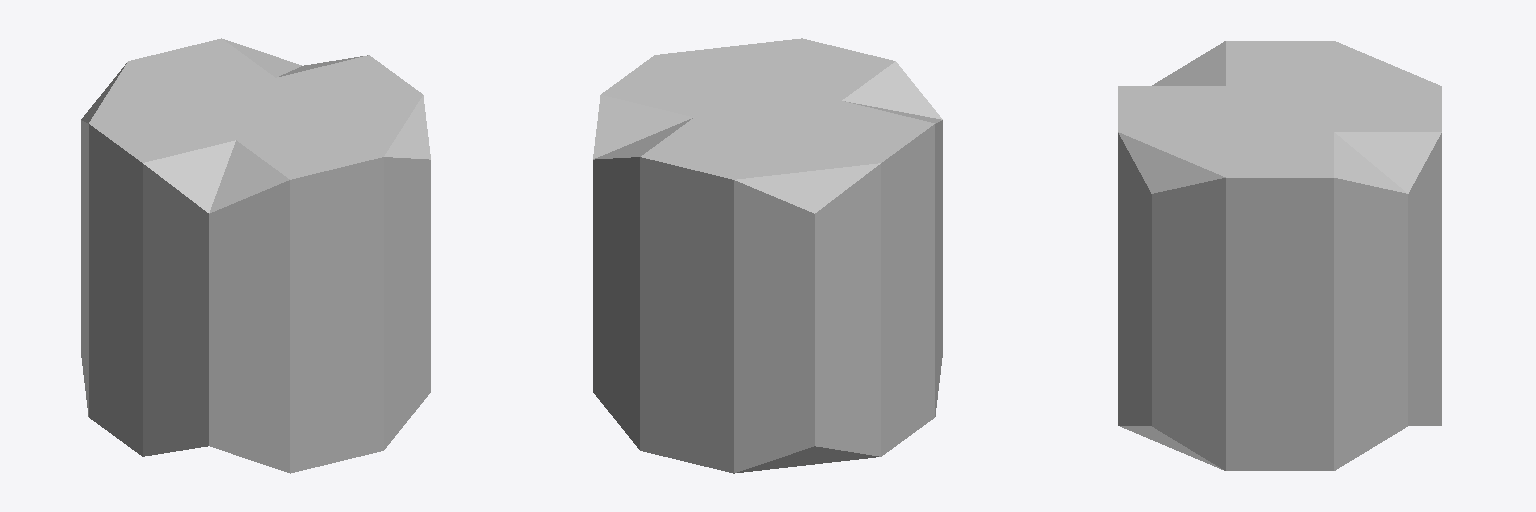
The model's file is Debris.obj.
3 views of the same model, side by side, from view 1: azimuth 30°, elevation 25°; view 2: azimuth 150°, elevation 25°; view 3: azimuth 270°, elevation 25° (orthographic).
Visible parts, largest first — view 1: Cube.001; view 2: Cube.001; view 3: Cube.001.
Boxes of the visible parts, box(x1,y1,x2,y2) form: Cube.001: box(81, 38, 430, 473); Cube.001: box(593, 38, 942, 473); Cube.001: box(1118, 41, 1441, 470).
Bounding box in the file's own units: 1.26 × 1.26 × 1.26.